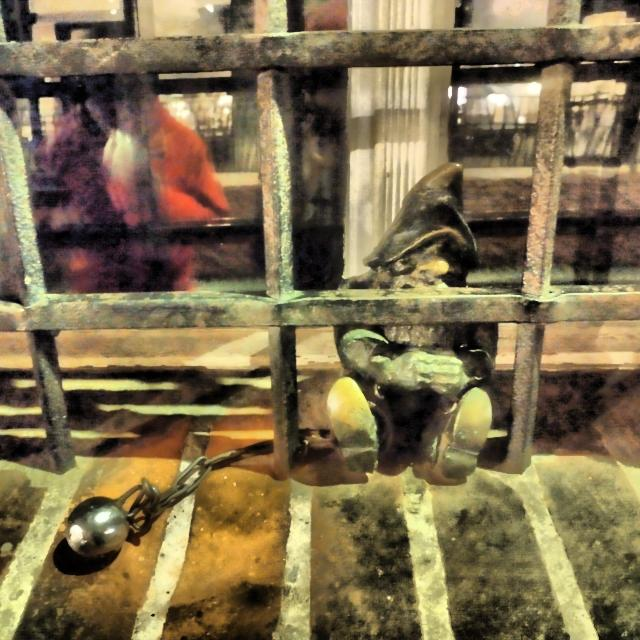Wiezien: (65, 164, 492, 557)
